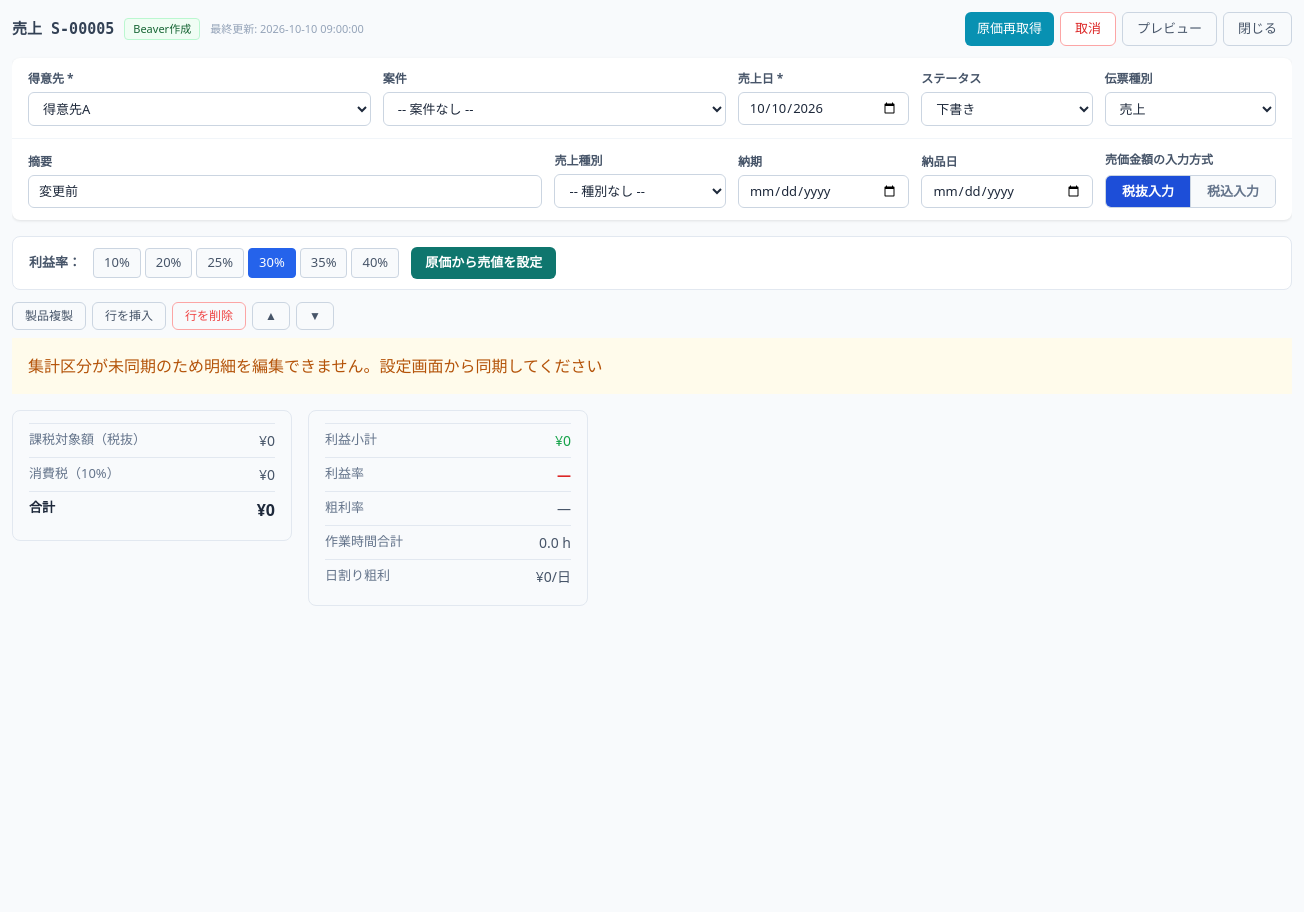
Test: R-0182 存在しない伝票と保存・閉じるループ › 書き込みが404なら再試行を出さず伝票一覧へのリンクを出す
Expected: the date field showing "2026-10-10" below "売上日 *" is shown, 738,92 -> 909,125
Replace the text in the field named "description" with "編集後": (285, 191) 28,174 -> 542,208
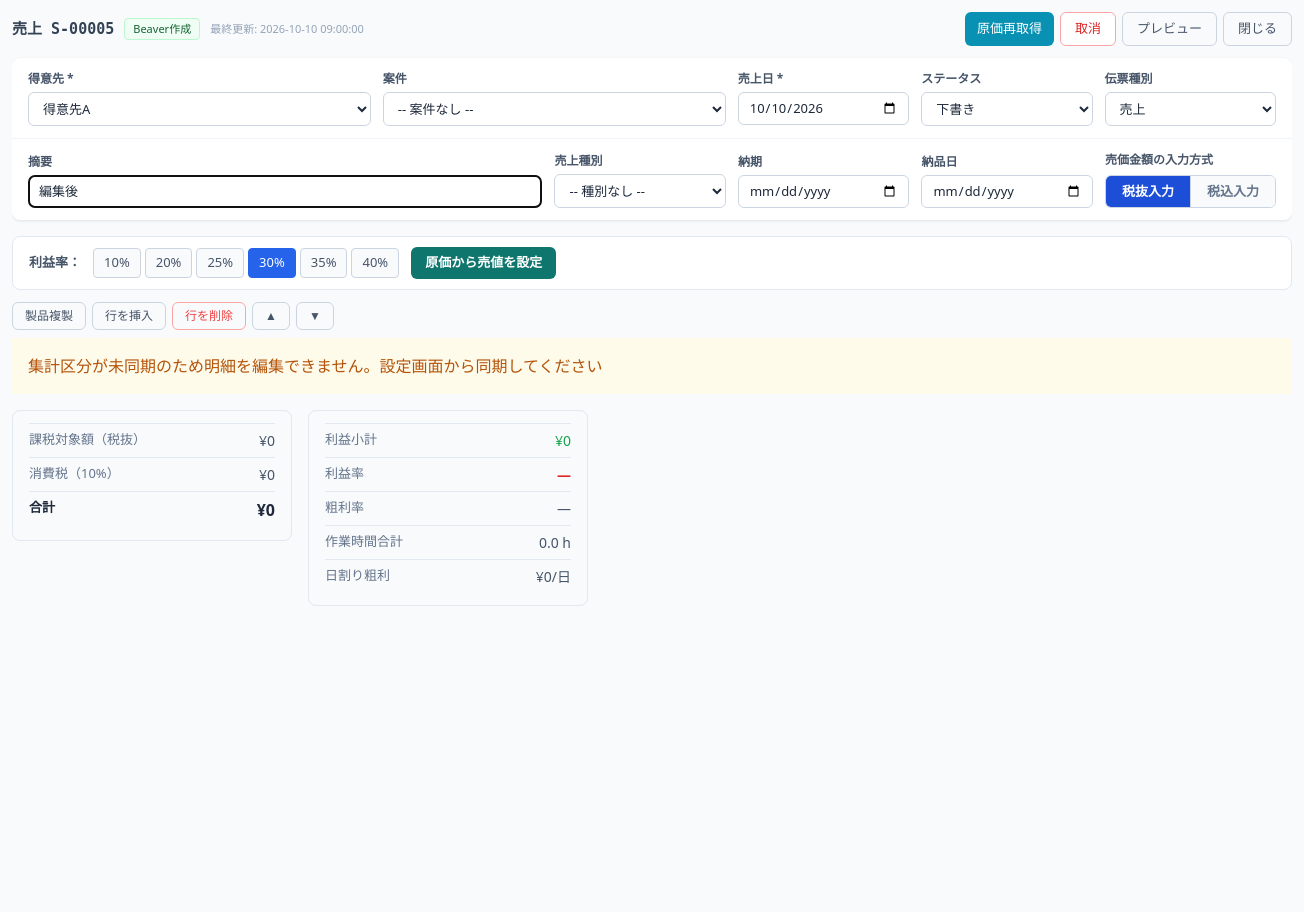
Press Tab
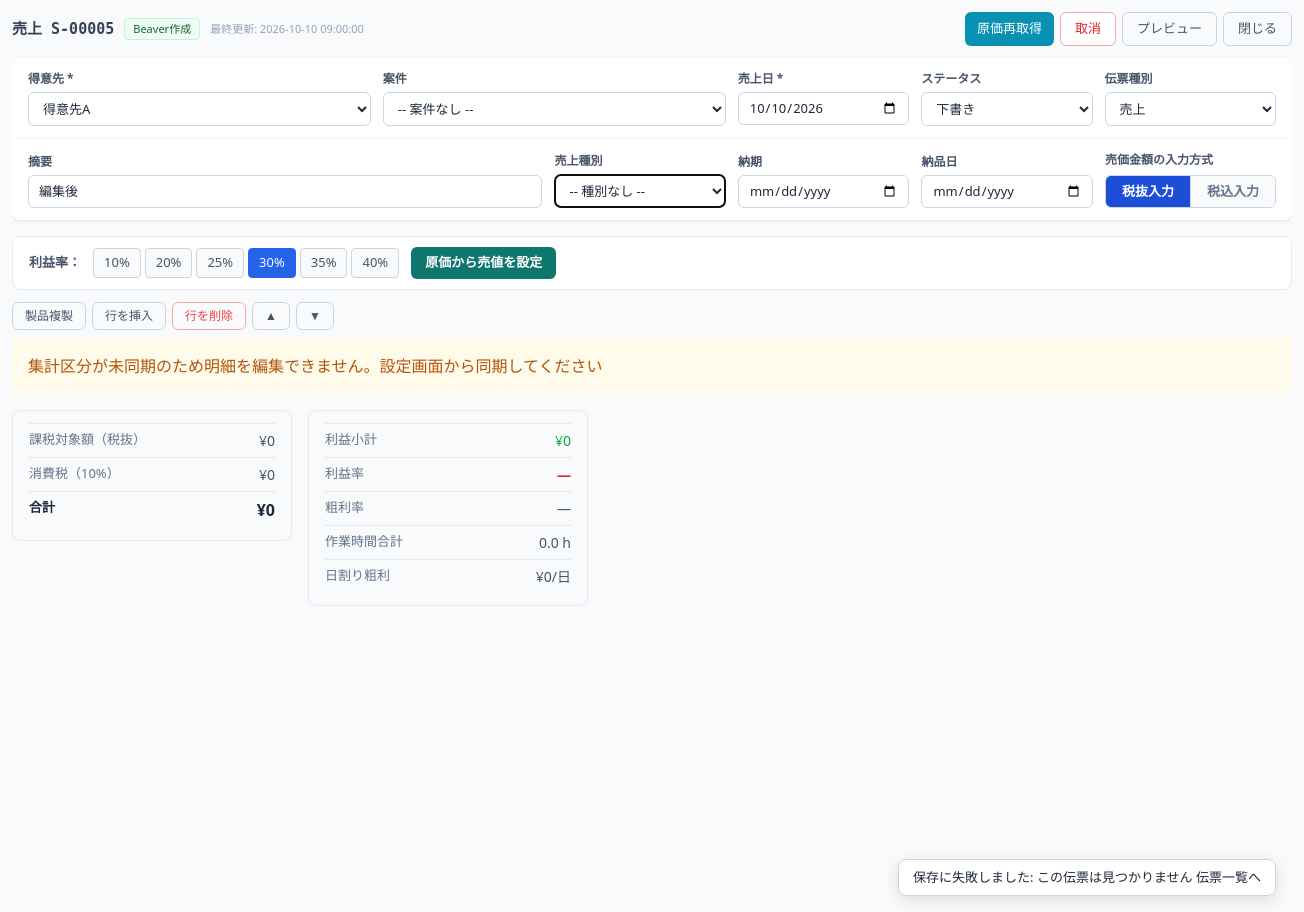
Now the link "伝票一覧へ" is shown, box 1196,868 -> 1261,886
